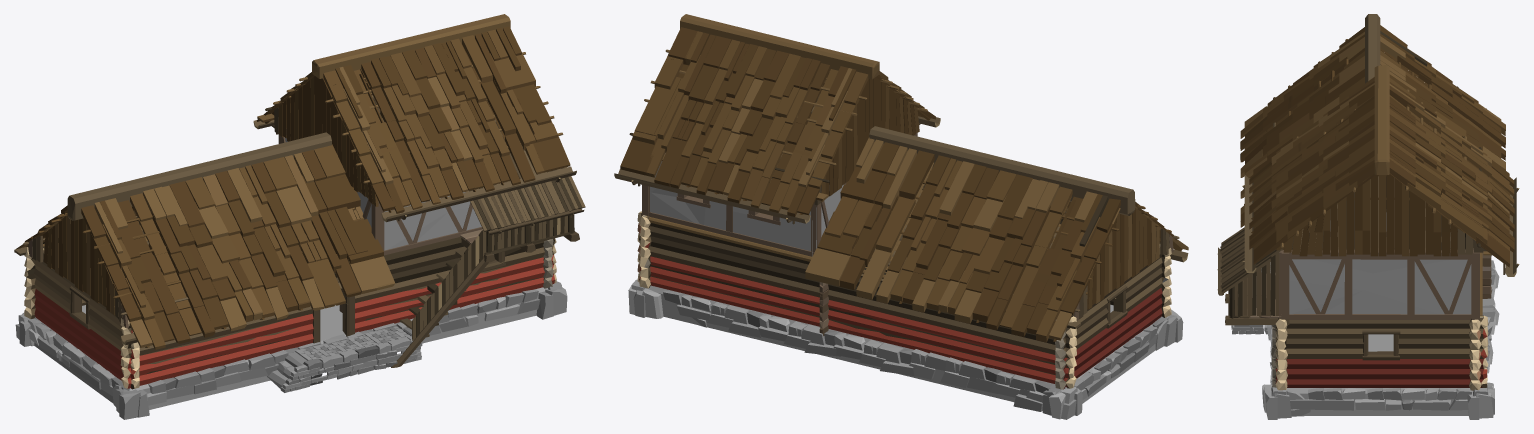
File: EA03_Town_Building_Administrative _01a.fbx
3 renders of one model, left to right at view 1: azimuth 30°, elevation 25°; view 2: azimuth 150°, elevation 25°; view 3: azimuth 270°, elevation 25°, orthographic.
Visible parts, largest first — view 1: EA03_Town_Building_Administrative _01a_LOD0; view 2: EA03_Town_Building_Administrative _01a_LOD0; view 3: EA03_Town_Building_Administrative _01a_LOD0.
Boxes of the visible parts, x1,y1,x2,y2 form: EA03_Town_Building_Administrative _01a_LOD0: (14, 14, 585, 419); EA03_Town_Building_Administrative _01a_LOD0: (614, 14, 1188, 419); EA03_Town_Building_Administrative _01a_LOD0: (1217, 14, 1519, 419).
Size of what is drawn, in the model's own units: 20.64 by 11.28 by 11.91.
